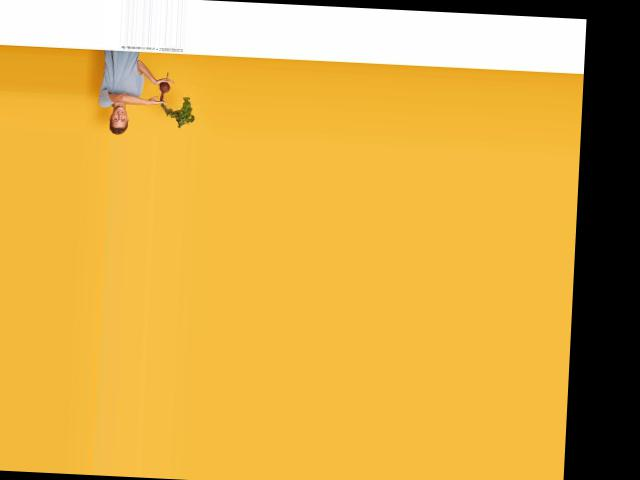beet: (157, 72, 197, 128)
